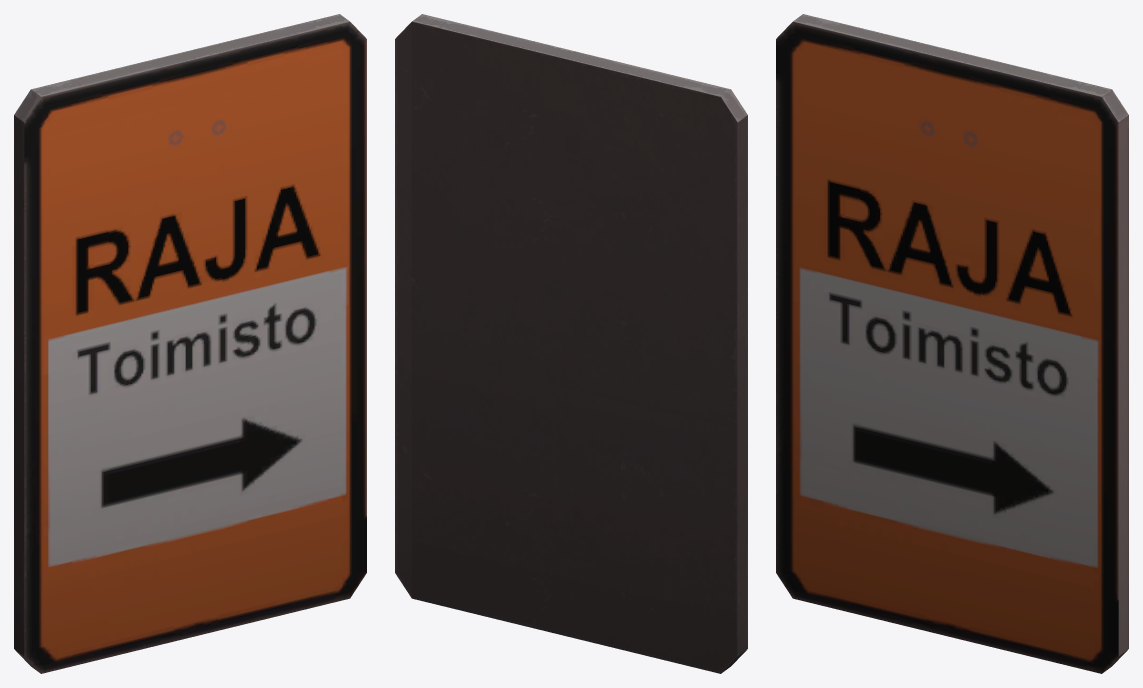
The model's file is SM_RajaToimisto_Sign.FBX.
The picture shows the model from 3 angles, left to right: view 1: azimuth 30°, elevation 25°; view 2: azimuth 150°, elevation 25°; view 3: azimuth 330°, elevation 25°; orthographic projection.
Parts seen in each view (by area): view 1: SM_RajaToimisto_Sign; view 2: SM_RajaToimisto_Sign; view 3: SM_RajaToimisto_Sign.
Part boxes in pixels (<box>): SM_RajaToimisto_Sign: <box>14,14,366,673</box>; SM_RajaToimisto_Sign: <box>395,14,747,673</box>; SM_RajaToimisto_Sign: <box>776,14,1128,673</box>.
Size of the model in its own units: 32.73 by 1.71 by 52.68.
